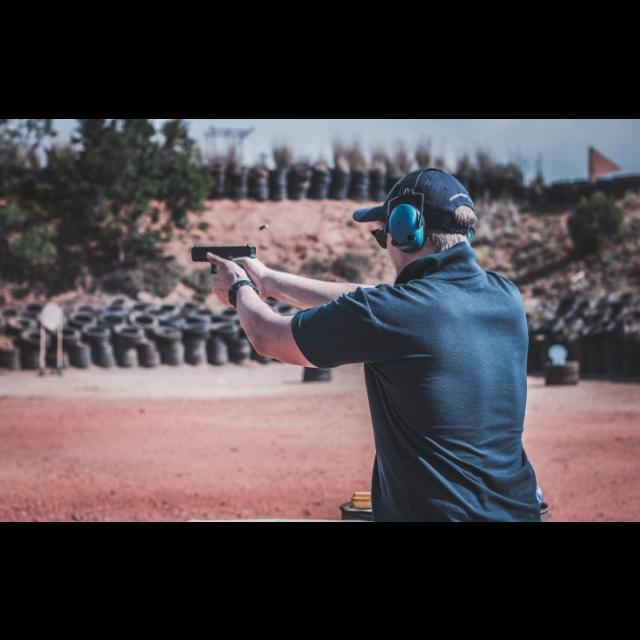handgun: (190, 240, 260, 282)
